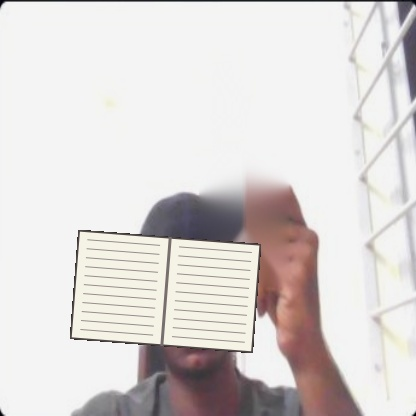book: (70, 230, 261, 353)
